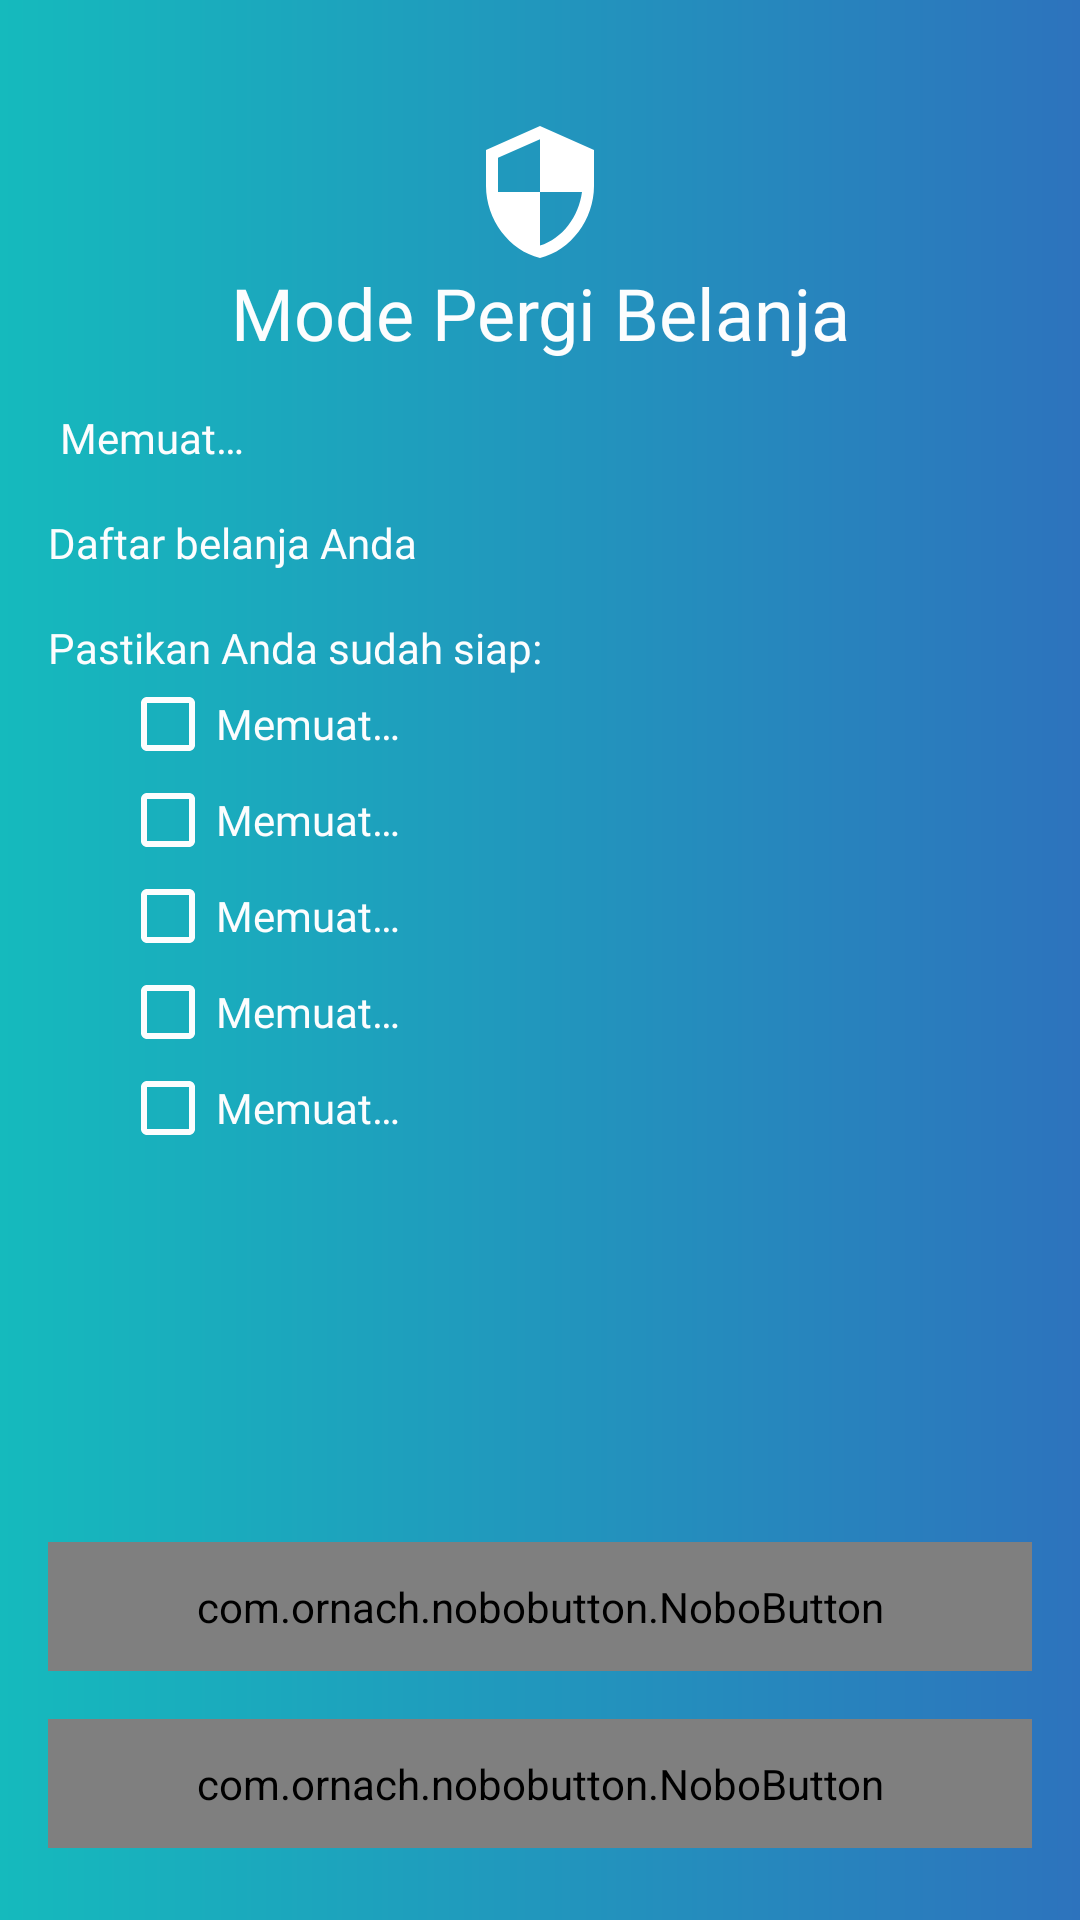

Icons on this 1080w x 1920h Android screen, each with its box as detection(x1, y1, x2, y2):
security: detection(486, 126, 594, 258)
